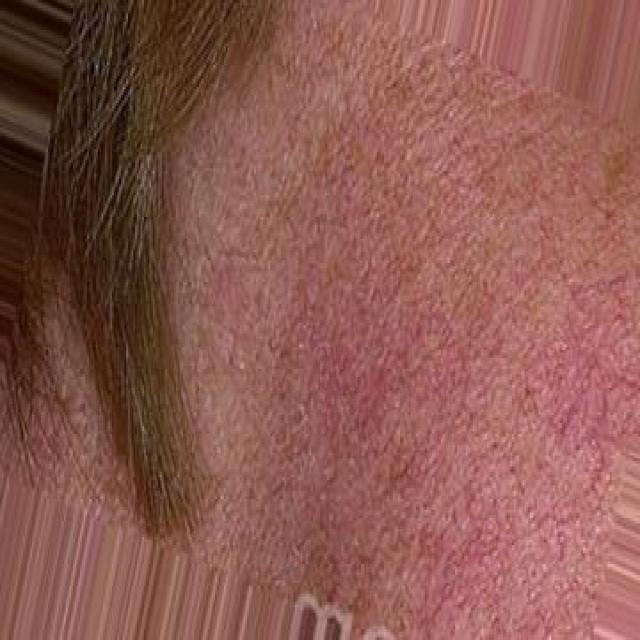Rosacea: (255, 91, 613, 566)
